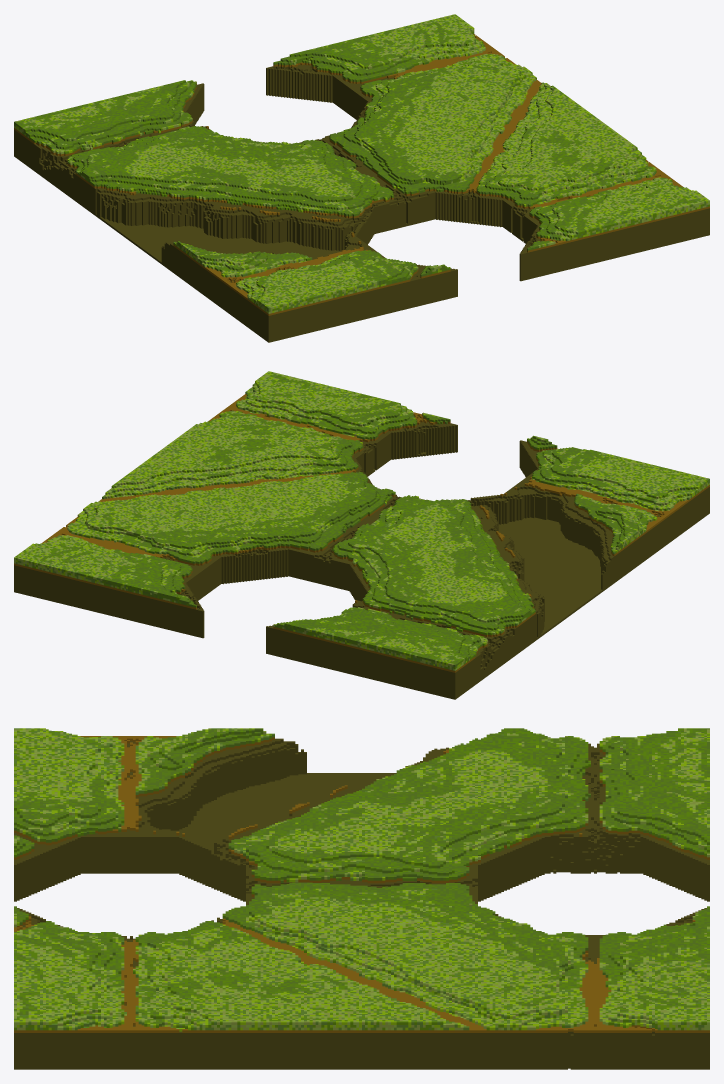
The model's file is Tab D3-0.obj.
The picture shows the model from 3 angles, top to bottom: view 1: azimuth 30°, elevation 25°; view 2: azimuth 150°, elevation 25°; view 3: azimuth 270°, elevation 25°; orthographic projection. The views are drawn at different scales.
Size of the model in its own units: 24 by 1.8 by 24.
Materials: 1 (1 with a texture image).
